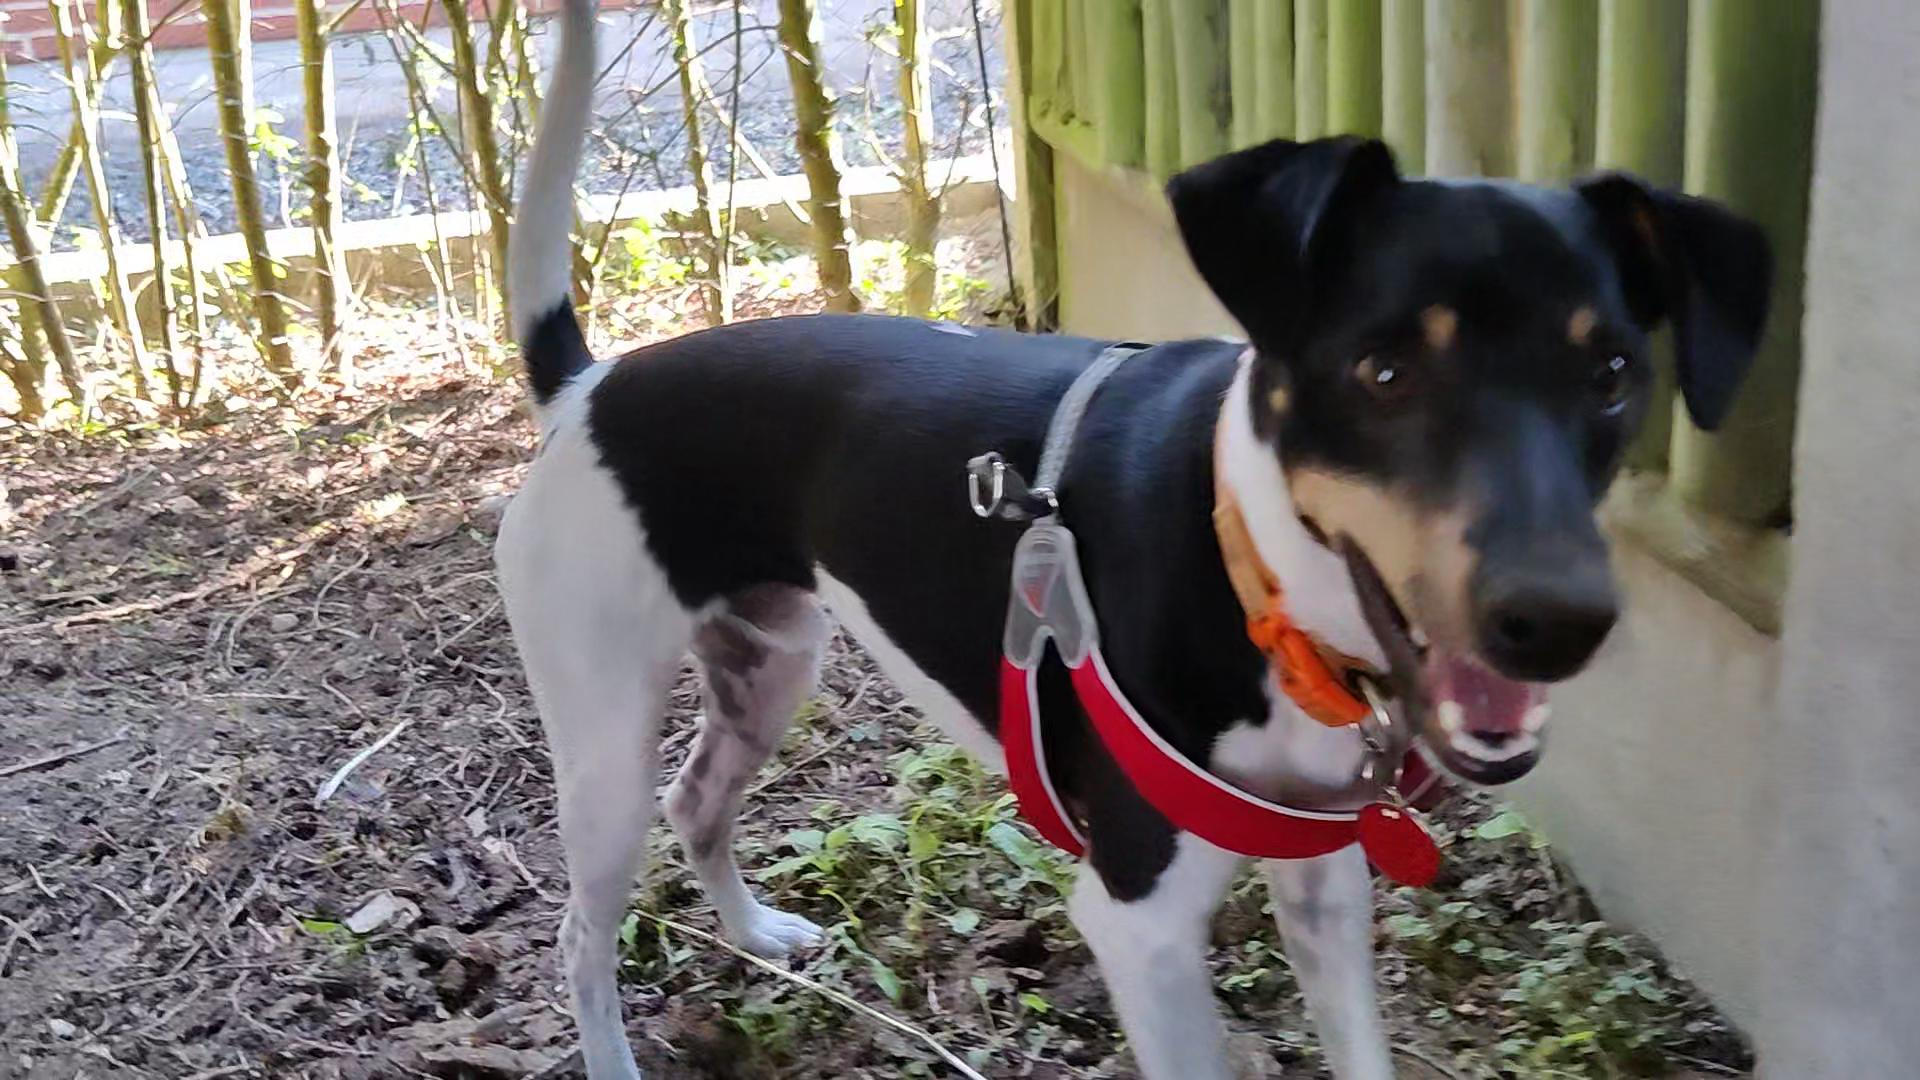Dog: (477, 0, 1784, 1080)
